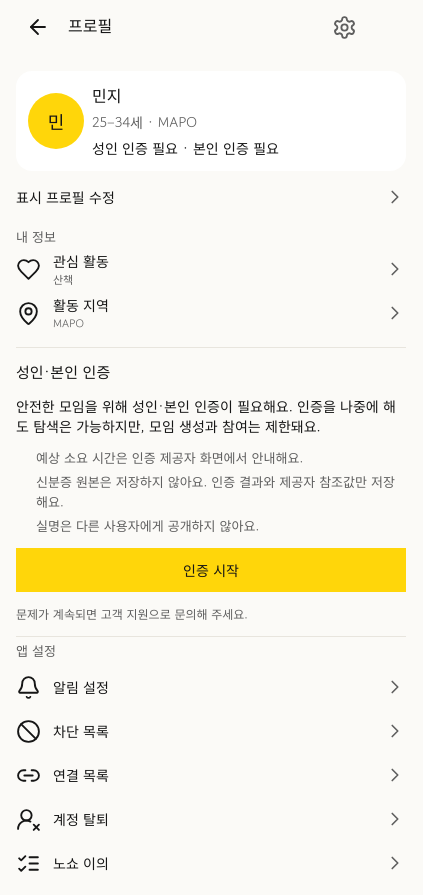
Test: ProfilePage › warns before leaving for the provider when the session cannot be handed off
The image size is (423, 895).
Check: the heading "민지" is shown, box [92,83,122,107]
Click the button "인증 시작": [211, 570] box [16,548,406,592]
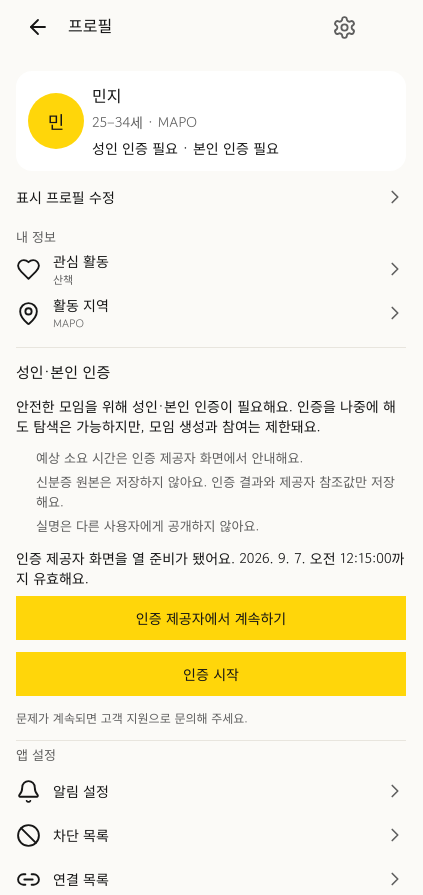
Click the button "인증 제공자에서 계속하기": [211, 618] box [16,596,406,640]
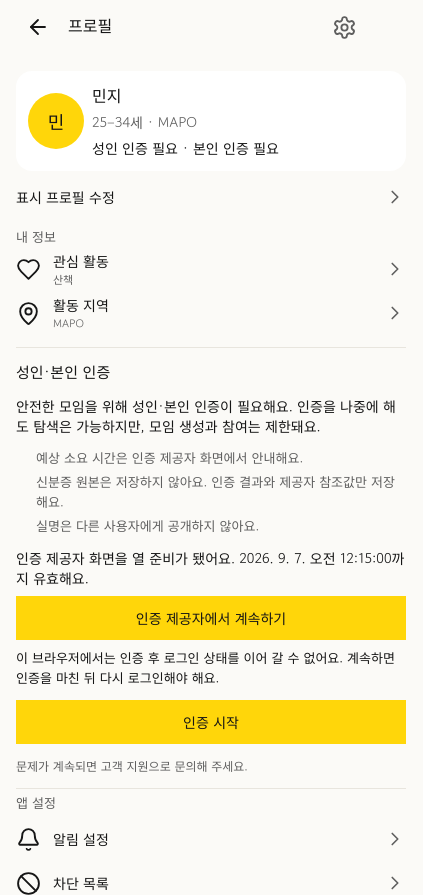
Check: the message shows "계속하면 인증을 마친 뒤 다시 로그인해야 해요.", box [16,648,395,687]
